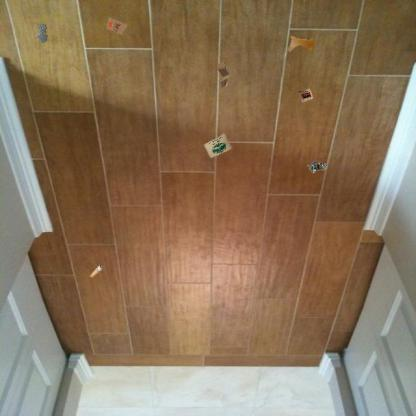dirty: (202, 132, 233, 160), (216, 60, 232, 90), (105, 16, 129, 36), (305, 160, 328, 175), (296, 86, 315, 104), (89, 262, 105, 279)
liquid: (286, 34, 316, 53), (34, 23, 49, 44)
